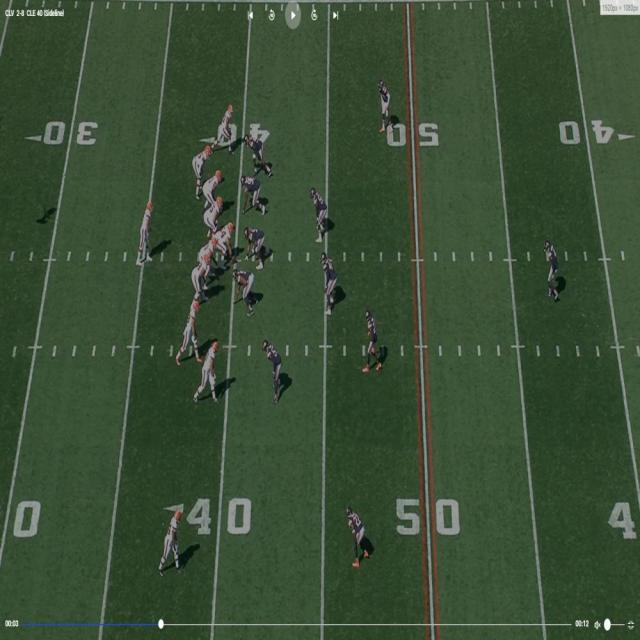center: (218, 221, 238, 267)
db: (347, 507, 367, 564), (364, 309, 380, 373), (544, 240, 556, 302), (380, 80, 390, 138)
lb: (309, 185, 327, 241), (263, 339, 278, 398), (320, 253, 333, 317)
qb: (140, 204, 152, 267)
skill: (199, 341, 222, 403), (160, 512, 180, 570), (183, 299, 198, 358), (219, 106, 237, 150)
